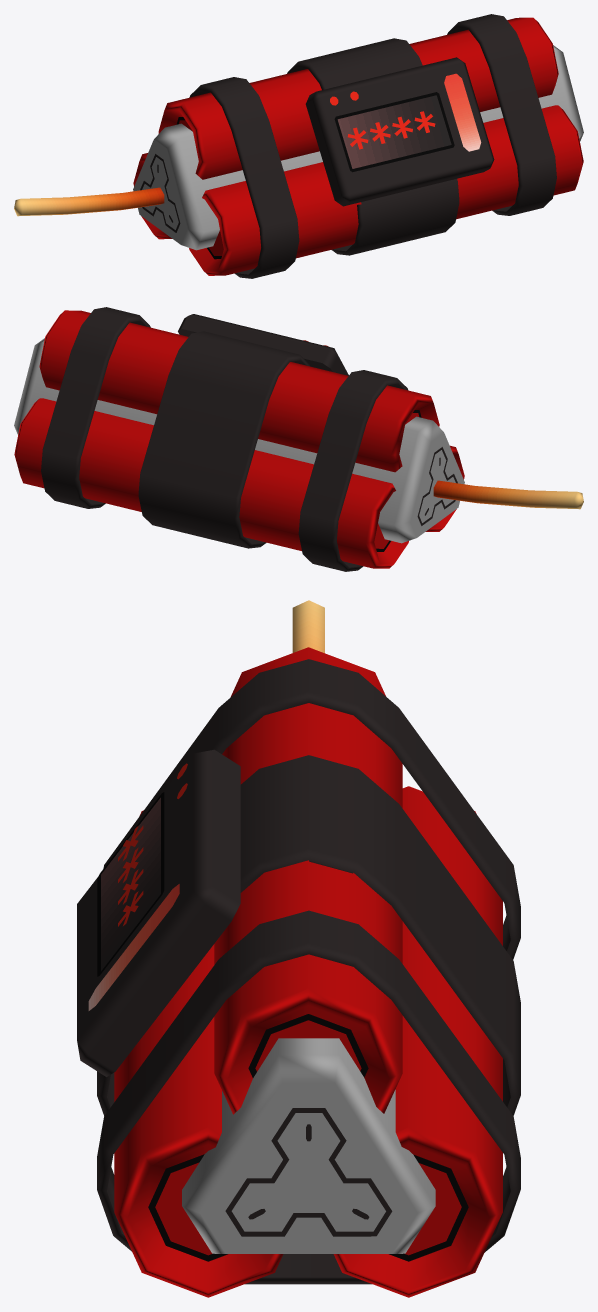
The model's file is TimeBomb.fbx.
3 renders of one model, top to bottom at view 1: azimuth 30°, elevation 25°; view 2: azimuth 150°, elevation 25°; view 3: azimuth 270°, elevation 25°, orthographic. The views are drawn at different scales.
Visible parts, largest first — view 1: grenade_02; view 2: grenade_02; view 3: grenade_02.
Part boxes in pixels (bbox=[...]): grenade_02: bbox=[14, 14, 583, 278]; grenade_02: bbox=[14, 307, 583, 571]; grenade_02: bbox=[77, 600, 520, 1297].
Bounding box in the file's own units: 0.4393 × 0.1319 × 0.155.
Materials: 1 (1 with a texture image).
